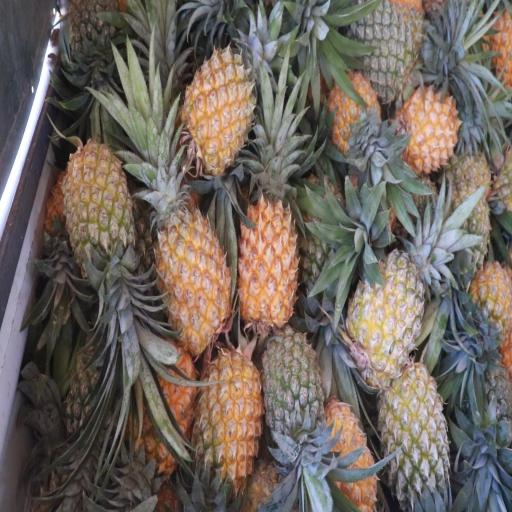------------------------------: (350, 252, 424, 382), (383, 368, 448, 507)
Pineapple - v8 v1: (155, 180, 230, 348), (67, 143, 134, 286), (184, 46, 258, 171), (200, 346, 265, 485), (238, 182, 296, 329), (137, 351, 199, 471), (324, 404, 378, 510), (404, 91, 462, 171), (331, 80, 384, 160), (470, 260, 512, 354)
